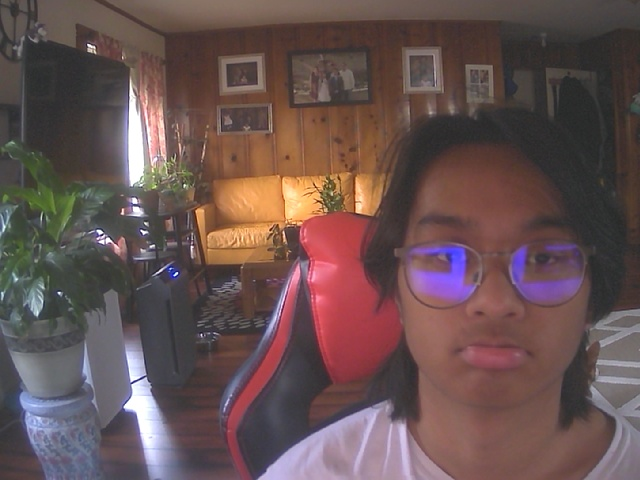sad: (385, 116, 611, 413)
